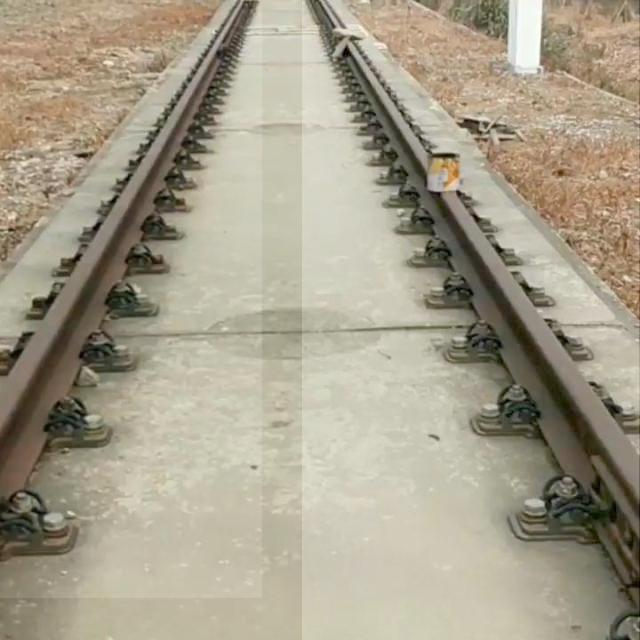rail: (303, 1, 640, 640), (1, 1, 263, 599)
